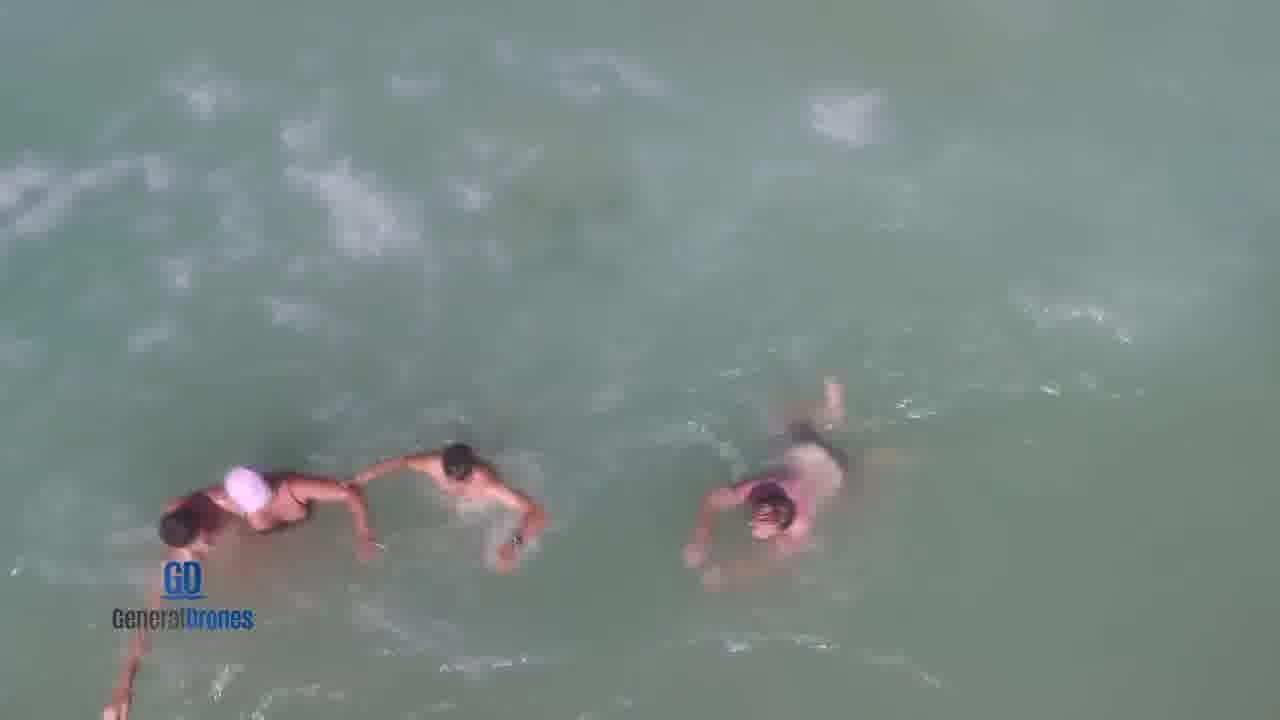human: (683, 425, 863, 587), (362, 440, 550, 571), (210, 460, 381, 574), (141, 480, 220, 564)
